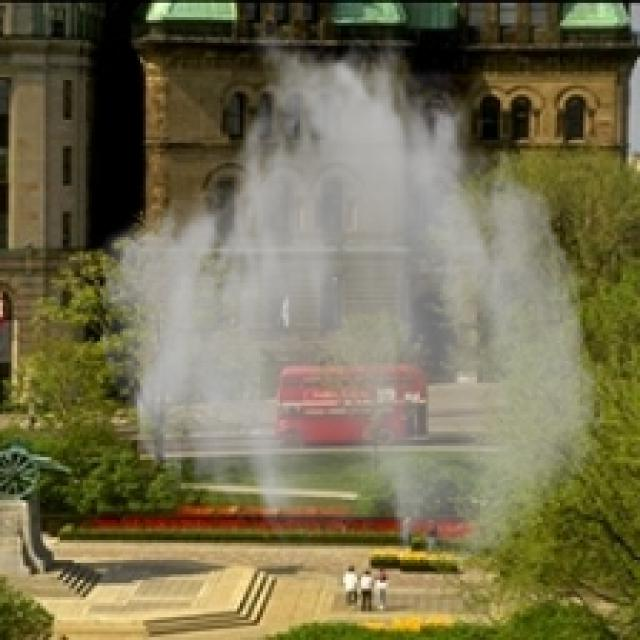smoke: (94, 20, 609, 569)
